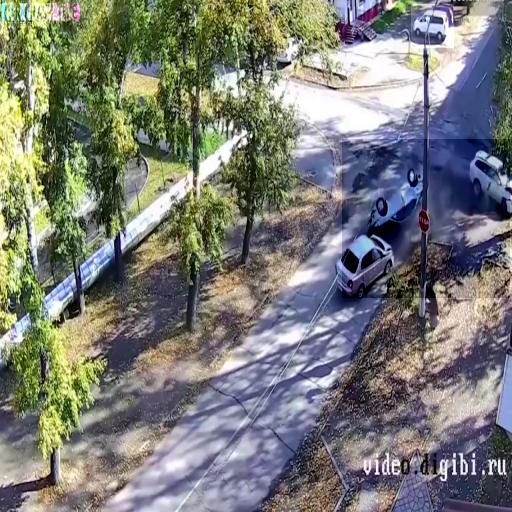小汽车: (411, 4, 454, 48)
小汽车撞小汽车: (342, 139, 510, 298)
